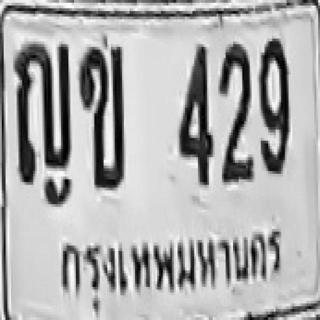A02: (78, 44, 124, 188)
A13: (13, 39, 70, 182)
N00: (258, 36, 290, 174)
N02: (218, 41, 253, 182)
N04: (178, 43, 213, 183)
N09: (258, 36, 290, 174)
P04: (49, 222, 288, 304)
